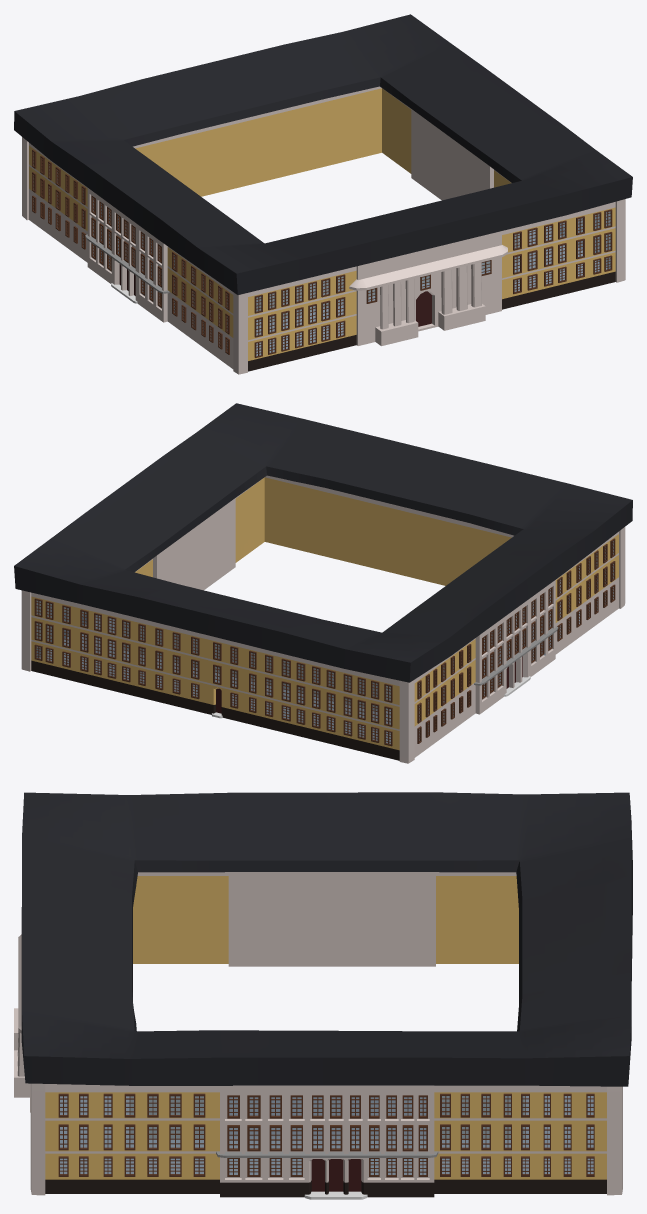
The model's file is Slottet.fbx.
3 renders of one model, top to bottom at view 1: azimuth 30°, elevation 25°; view 2: azimuth 150°, elevation 25°; view 3: azimuth 270°, elevation 25°, orthographic. The views are drawn at different scales.
Visible parts, largest first — view 1: Slottet; view 2: Slottet; view 3: Slottet.
Part boxes in pixels (bbox=[...]): Slottet: bbox=[14, 14, 632, 374]; Slottet: bbox=[14, 403, 632, 763]; Slottet: bbox=[14, 792, 632, 1199].
Size of the model in its own units: 1844 by 461 by 1814.
